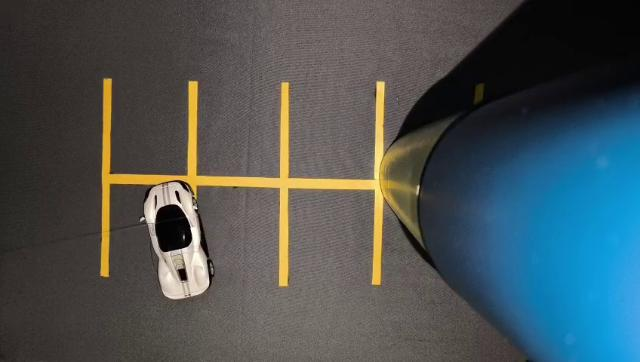toy_car: (130, 168, 239, 319)
